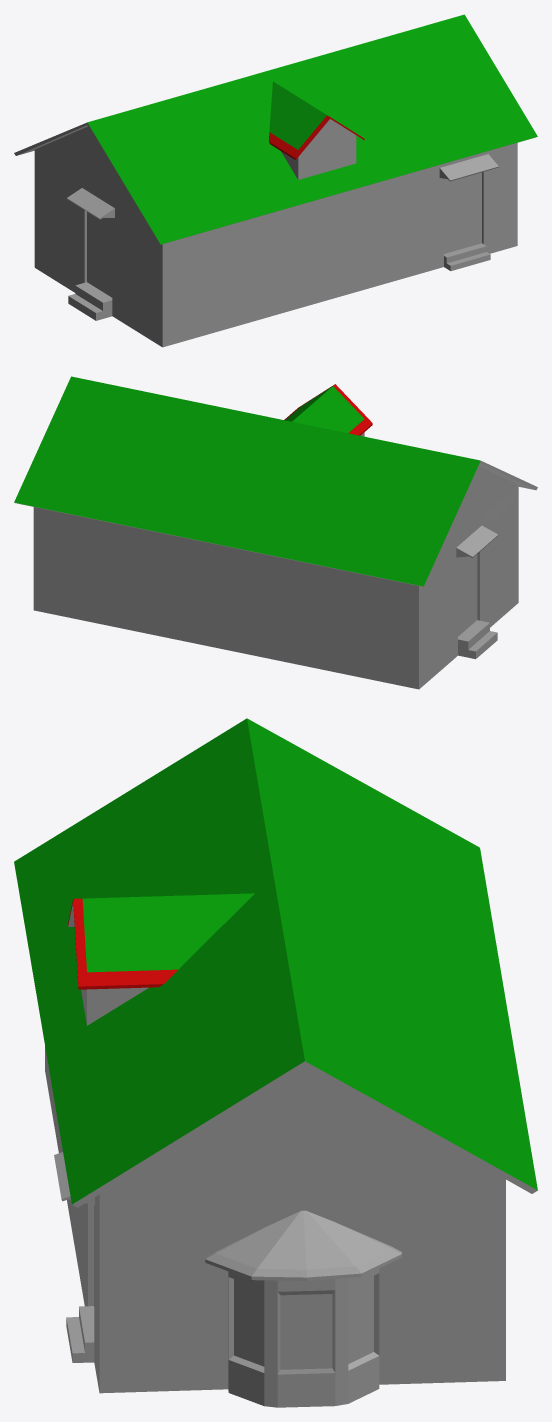
The model's file is cottage_obj.obj.
The picture shows the model from 3 angles, top to bottom: view 1: azimuth 30°, elevation 25°; view 2: azimuth 150°, elevation 25°; view 3: azimuth 270°, elevation 25°; orthographic projection. The views are drawn at different scales.
Parts seen in each view (by area): view 1: Cube_Cube.002; view 2: Cube_Cube.002; view 3: Cube_Cube.002.
Part boxes in pixels (x1,y1,x2,y2): Cube_Cube.002: (14, 14, 537, 347); Cube_Cube.002: (14, 376, 537, 689); Cube_Cube.002: (14, 718, 537, 1407).
Size of the model in its own units: 33.93 by 14.67 by 20.74.
